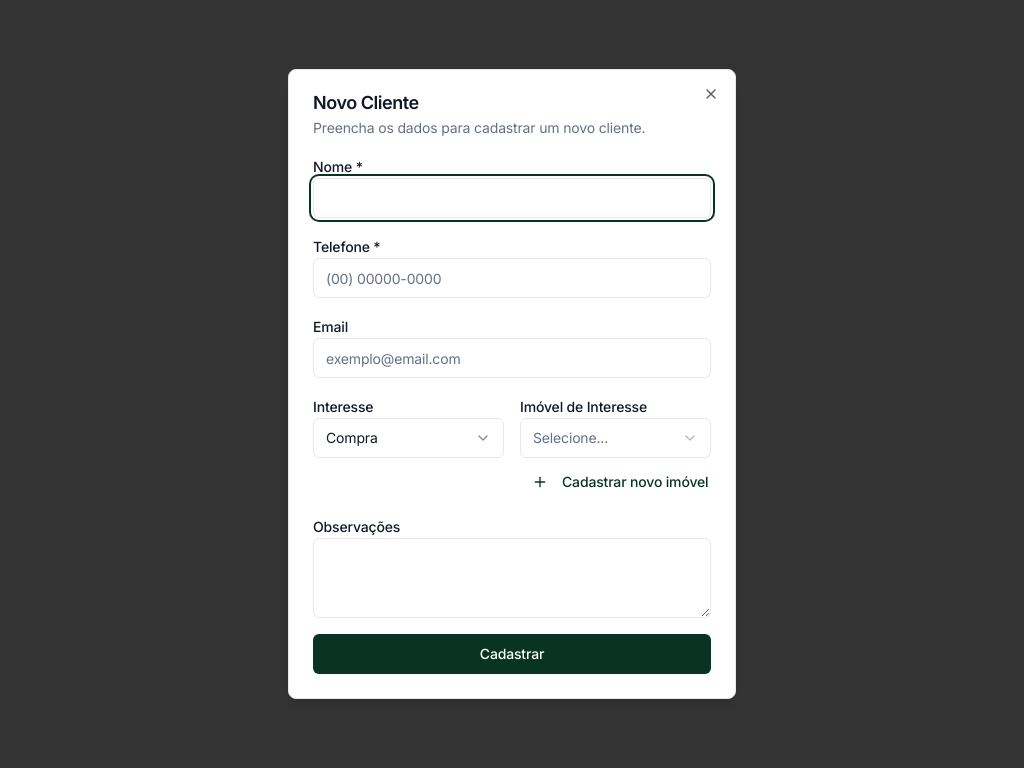
Test: telefone de outro cliente: mostra quem é e abre o cadastro, sem "criar mesmo assim"
Step 1. Type "Ana" into the 1st field → [512, 198], box [313, 178, 711, 218]
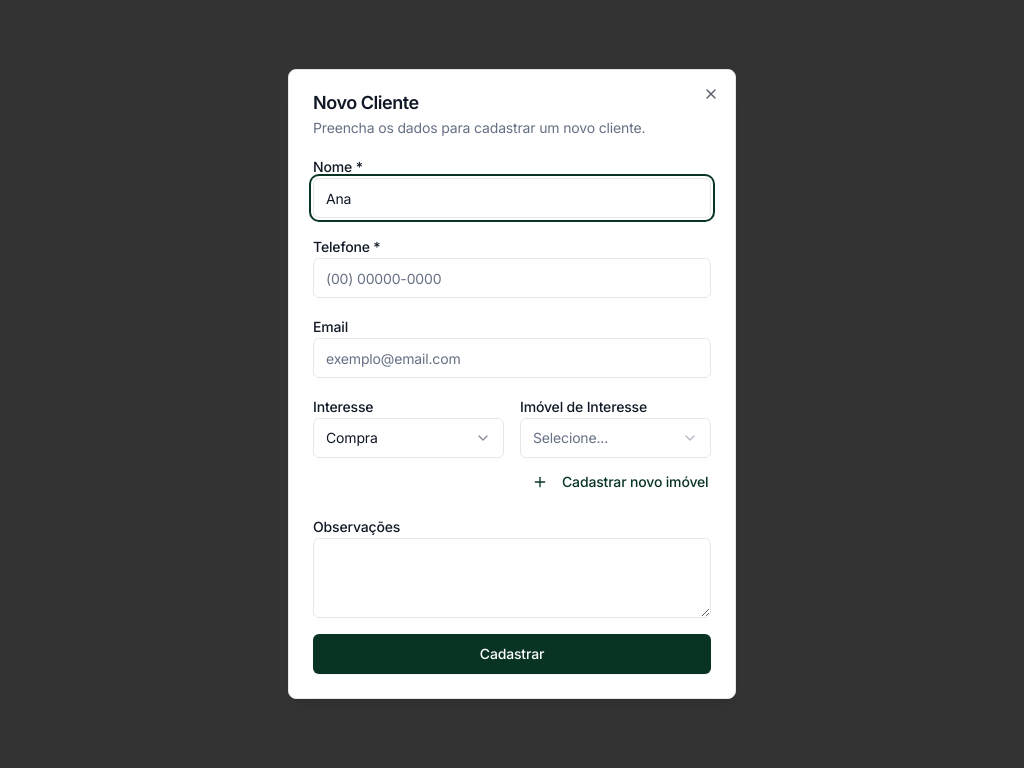
Step 2. Type "62911110002" into the field with placeholder "(00) 00000-0000" → [512, 278], box [313, 258, 711, 298]
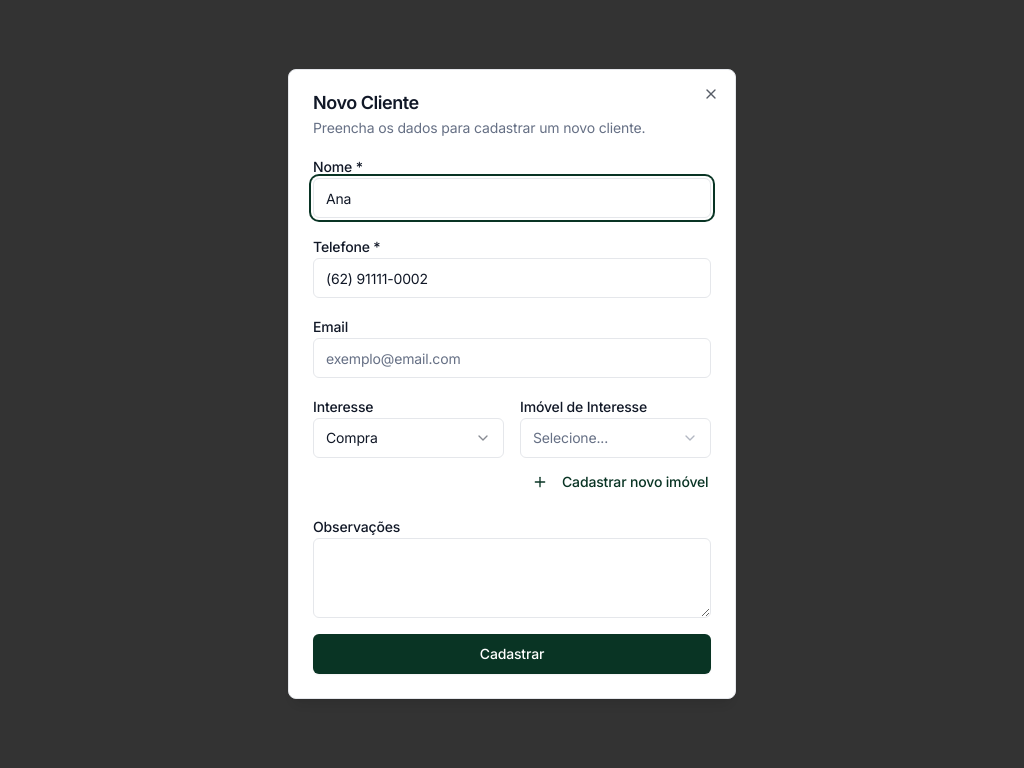
Step 3. Click the button "Cadastrar" → [512, 654], box [313, 634, 711, 674]
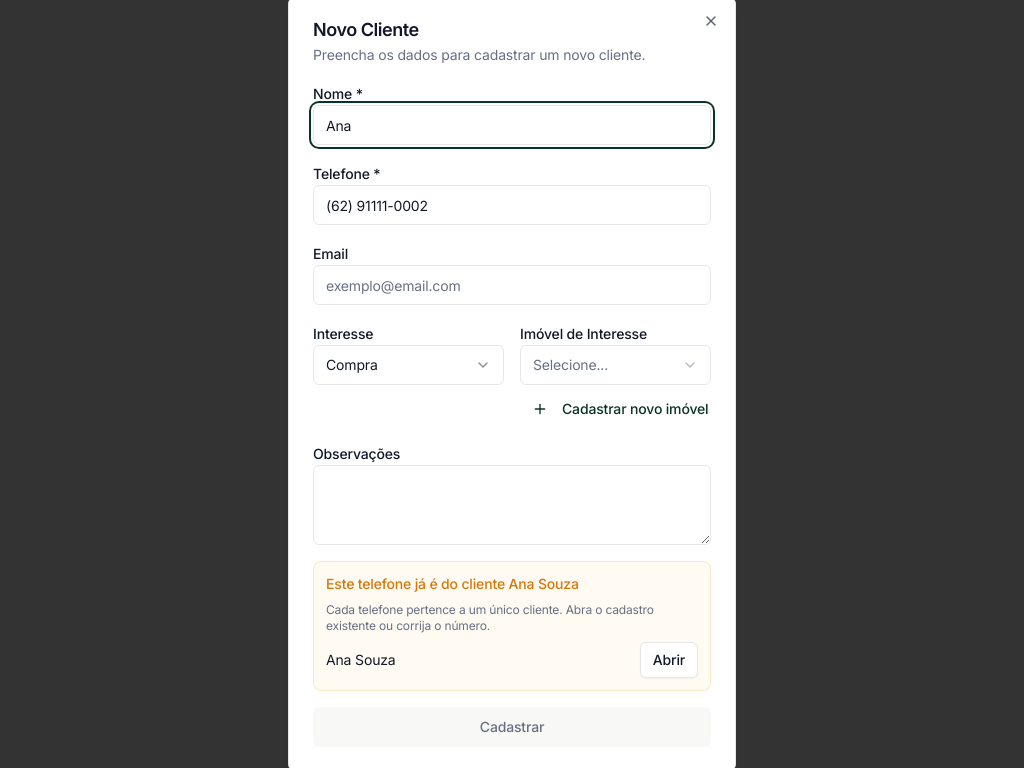
Expected: the message shows "Este telefone já é do cliente Ana Souza", [326, 575, 579, 592]
Expected: the button "Cadastrar" is disabled, [313, 707, 711, 747]
Step 4. Click the button "Abrir" → [669, 660], box [640, 642, 698, 678]
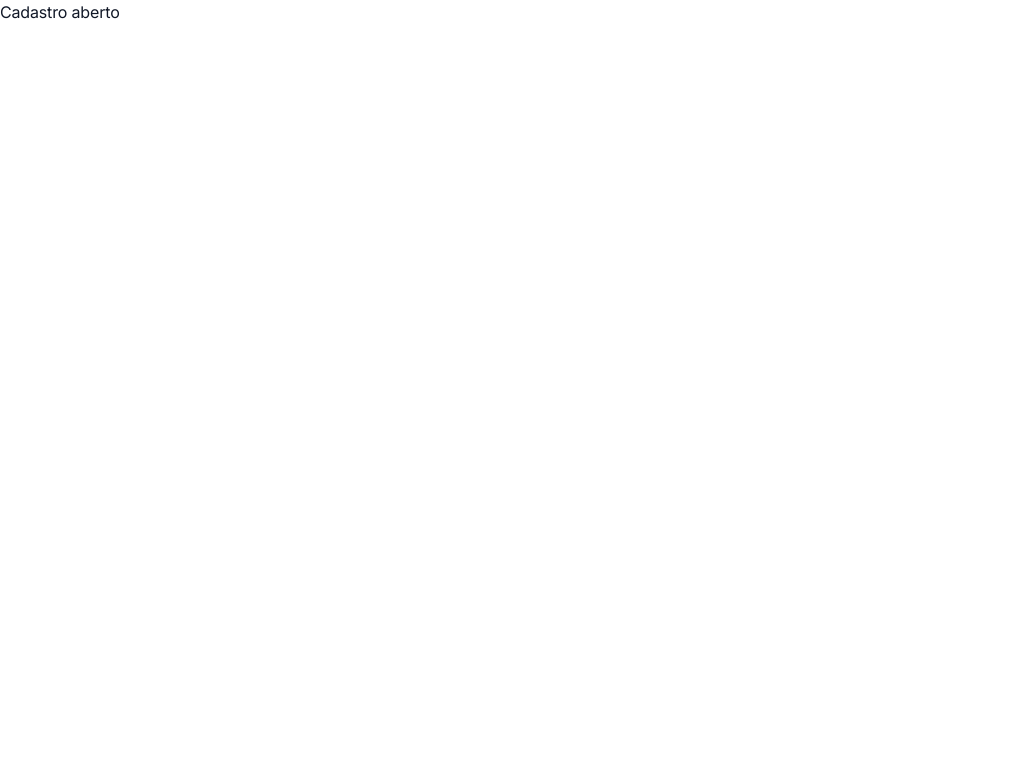
Expected: the text "Cadastro aberto" is shown, [0, 2, 120, 22]
